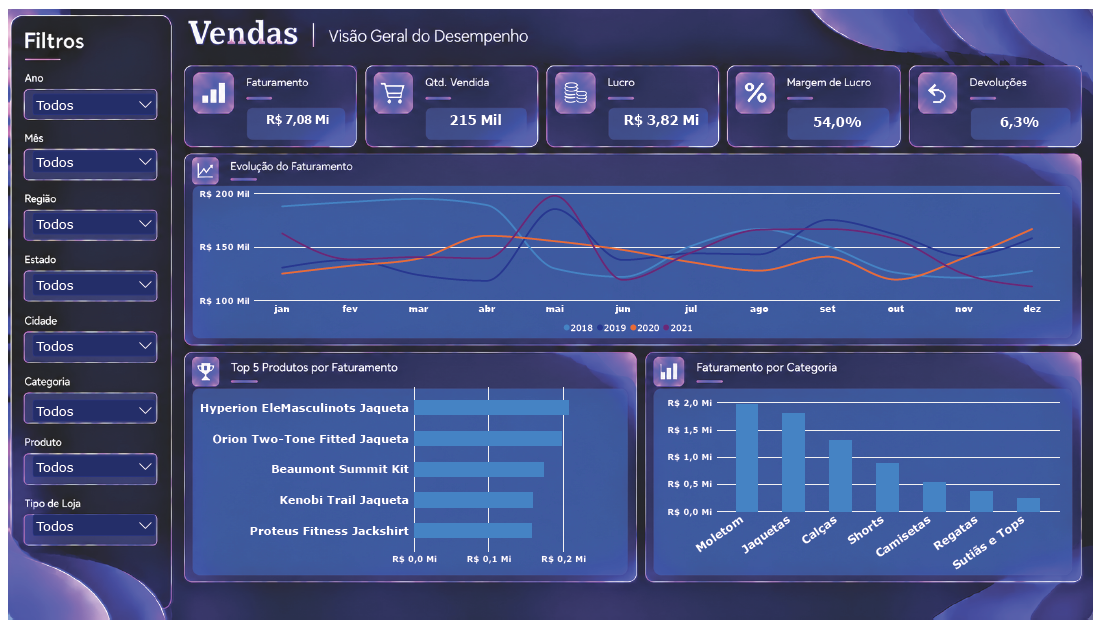

The dashboard page shown, as its layout file describes it:
{"tool":"powerbi","page":{"name":"Visão Geral","canvas":[1920,1080],"ordinal":0},"visuals":[{"type":"lineChart","fields":{"Category":["Calendário.Mes"],"Series":["Calendário.Ano"],"Y":["Medidas.Faturamento"]},"box":[321.8,302.4,1555.2,291.6],"z":0},{"type":"card","fields":{"Values":["Medidas.Faturamento"]},"box":[412.6,166.3,198.7,60.5],"z":1000},{"type":"card","fields":{"Values":["Medidas.Quantidade Vendida"]},"box":[740.9,168.5,172.8,58.3],"z":2000},{"type":"card","fields":{"Values":["Medidas.Lucro"]},"box":[1058.4,166.3,196.6,62.6],"z":3000},{"type":"card","fields":{"Values":["Medidas.Margem de Lucro"]},"box":[1375.9,172.8,183.6,54],"z":4000},{"type":"card","fields":{"Values":["Medidas.Taxa de Devolução"]},"box":[1704.2,168.5,172.8,62.6],"z":5000},{"type":"clusteredBarChart","fields":{"Category":["Produtos.Produto_Nome"],"Y":["Medidas.Faturamento"]},"box":[321.8,648,777.6,354.2],"z":6000},{"type":"columnChart","fields":{"Category":["Produtos.Produto_Categoria"],"Y":["Medidas.Faturamento"]},"box":[1151.3,671.8,725.8,354.2],"z":7000},{"type":"slicer","fields":{"Values":["Calendário.Ano"]},"box":[21.6,129.6,259.2,71.3],"z":8000},{"type":"slicer","fields":{"Values":["Calendário.Mes"]},"box":[21.6,231.1,259.2,71.3],"z":8001},{"type":"slicer","fields":{"Values":["Lojas.Região"]},"box":[21.6,341.3,259.2,69.1],"z":8002},{"type":"slicer","fields":{"Values":["Lojas.Estado"]},"box":[21.6,449.3,259.2,71.3],"z":8003},{"type":"slicer","fields":{"Values":["Lojas.Cidade"]},"box":[21.6,557.3,259.2,71.3],"z":8004},{"type":"slicer","fields":{"Values":["Produtos.Produto_Categoria"]},"box":[21.6,671.8,259.2,58.3],"z":8005},{"type":"slicer","fields":{"Values":["Produtos.Produto_Nome"]},"box":[21.6,771.1,259.2,77.8],"z":8006},{"type":"slicer","fields":{"Values":["Lojas.Loja_canal"]},"box":[21.6,874.8,259.2,77.8],"z":8007}]}

Visuals, with their boxes in screenshot pixels (x1, y1, x2, y2), scaled from the page's 1920x1080 canvas onto the 1102x628 screenshot:
lineChart - Calendário.Mes x Calendário.Ano: box=[185, 176, 1077, 345]
card - Medidas.Faturamento: box=[237, 97, 351, 132]
card - Medidas.Quantidade Vendida: box=[425, 98, 524, 132]
card - Medidas.Lucro: box=[607, 97, 720, 133]
card - Medidas.Margem de Lucro: box=[790, 100, 895, 132]
card - Medidas.Taxa de Devolução: box=[978, 98, 1077, 134]
clusteredBarChart - Produtos.Produto_Nome x Medidas.Faturamento: box=[185, 377, 631, 583]
columnChart - Produtos.Produto_Categoria x Medidas.Faturamento: box=[661, 391, 1077, 597]
slicer - Calendário.Ano: box=[12, 75, 161, 117]
slicer - Calendário.Mes: box=[12, 134, 161, 176]
slicer - Lojas.Região: box=[12, 198, 161, 239]
slicer - Lojas.Estado: box=[12, 261, 161, 303]
slicer - Lojas.Cidade: box=[12, 324, 161, 366]
slicer - Produtos.Produto_Categoria: box=[12, 391, 161, 425]
slicer - Produtos.Produto_Nome: box=[12, 448, 161, 494]
slicer - Lojas.Loja_canal: box=[12, 509, 161, 554]
